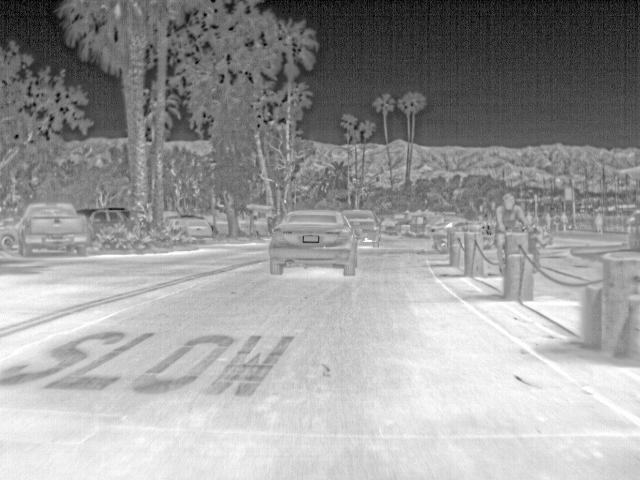car: (271, 209, 357, 277), (15, 200, 93, 256), (431, 221, 496, 252), (75, 208, 129, 234), (341, 208, 380, 241), (409, 211, 439, 237), (382, 213, 405, 234)
person: (495, 192, 531, 234)
